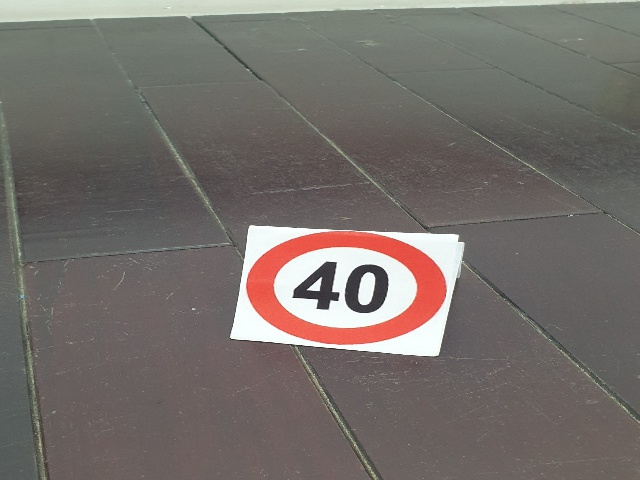Limit 40: (246, 231, 449, 344)
